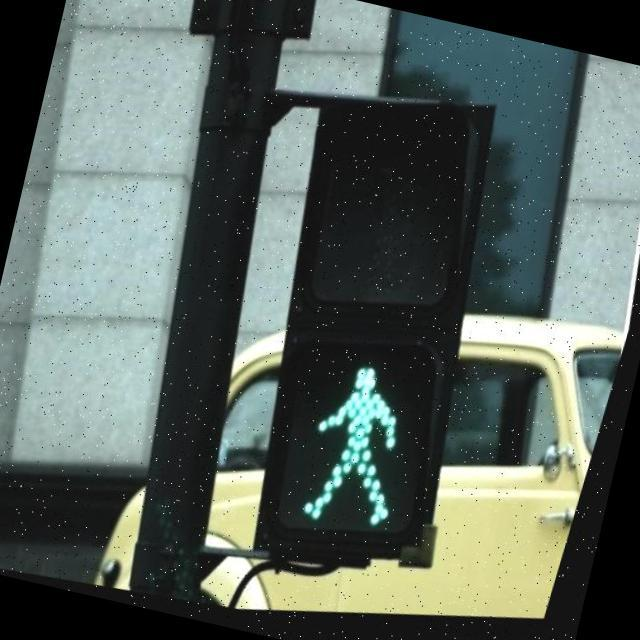greenlight: (255, 96, 491, 552)
